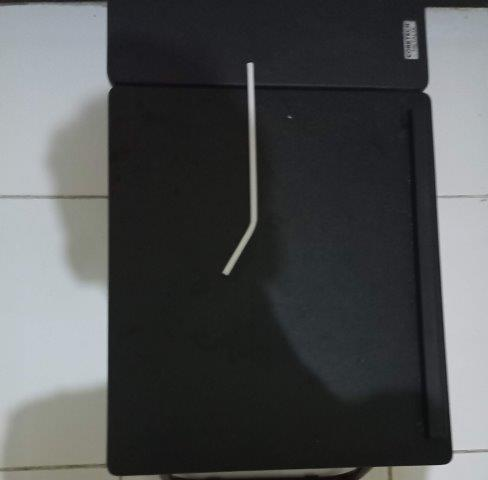sedotan: (223, 63, 258, 275)
